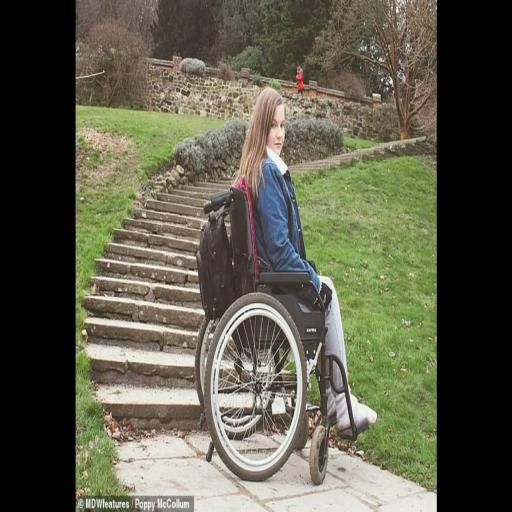cadeira_de_rodas: (178, 172, 381, 492)
